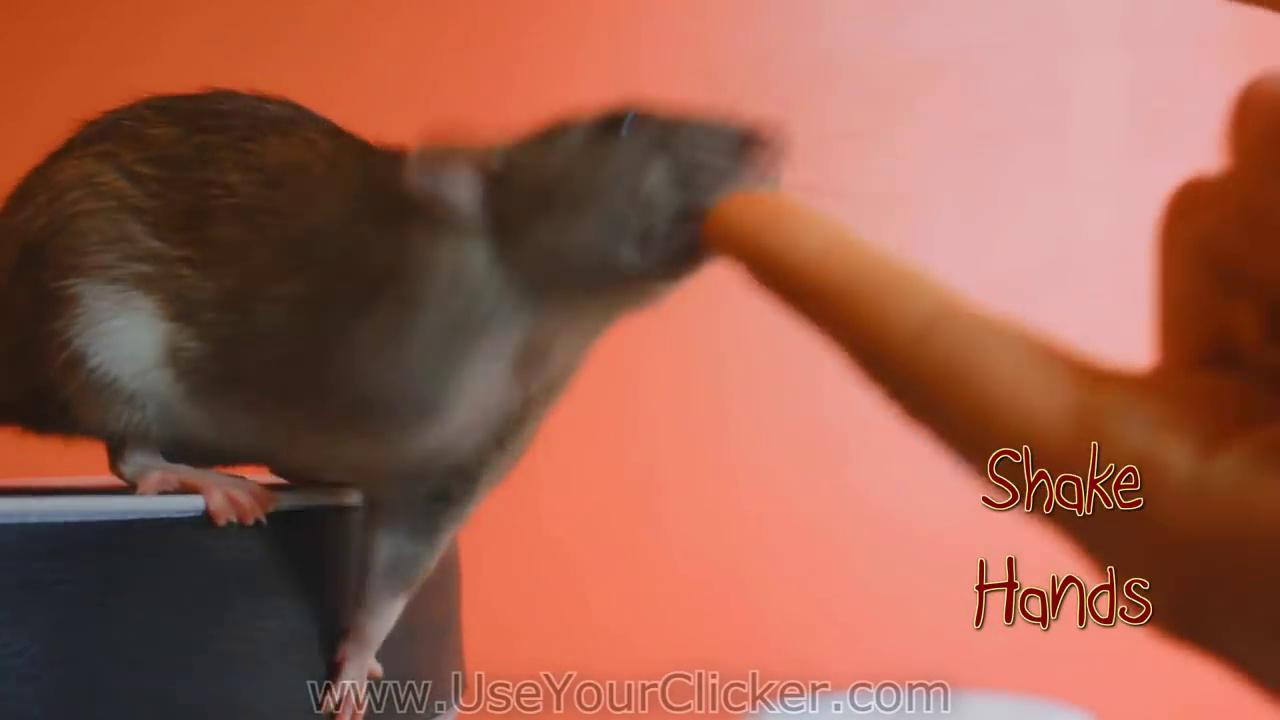rat: (3, 93, 777, 720)
